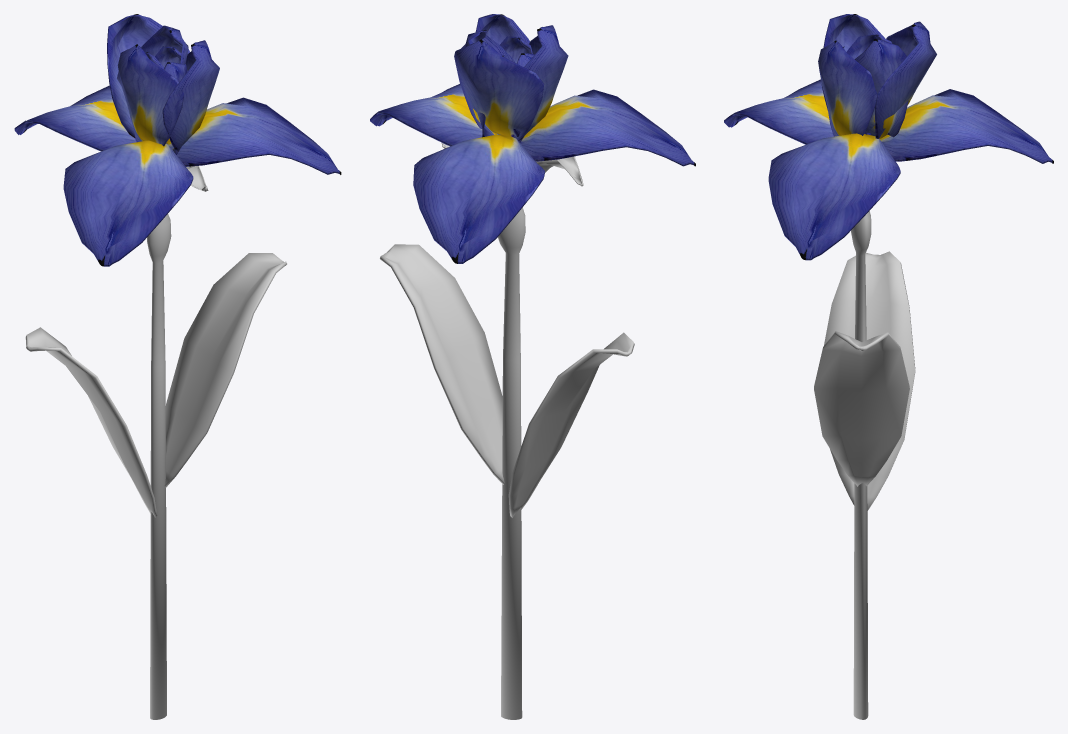
Rendered from iris.fbx.
3 renders of one model, left to right at view 1: azimuth 30°, elevation 25°; view 2: azimuth 150°, elevation 25°; view 3: azimuth 270°, elevation 25°, orthographic.
Parts seen in each view (by area): view 1: Iris (Falls), Iris (leaves), Iris (Standards), iris (stem); view 2: Iris (Falls), Iris (leaves), Iris (Standards), iris (stem), iris (stem leaves); view 3: Iris (Falls), Iris (leaves), Iris (Standards), iris (stem).
Part boxes in pixels (x1,y1,x2,y2): Iris (Falls): [14, 85, 341, 266]; Iris (leaves): [25, 253, 286, 517]; Iris (Standards): [107, 14, 219, 154]; iris (stem): [147, 214, 171, 719]; Iris (Falls): [370, 84, 695, 263]; Iris (leaves): [380, 244, 634, 517]; Iris (Standards): [454, 14, 568, 142]; iris (stem): [498, 207, 525, 719]; iris (stem leaves): [441, 143, 583, 186]; Iris (Falls): [724, 79, 1053, 260]; Iris (leaves): [814, 251, 915, 510]; Iris (Standards): [818, 14, 936, 138]; iris (stem): [851, 211, 871, 719].
Size of the model in its own units: 1.03 by 2.4 by 1.04.
